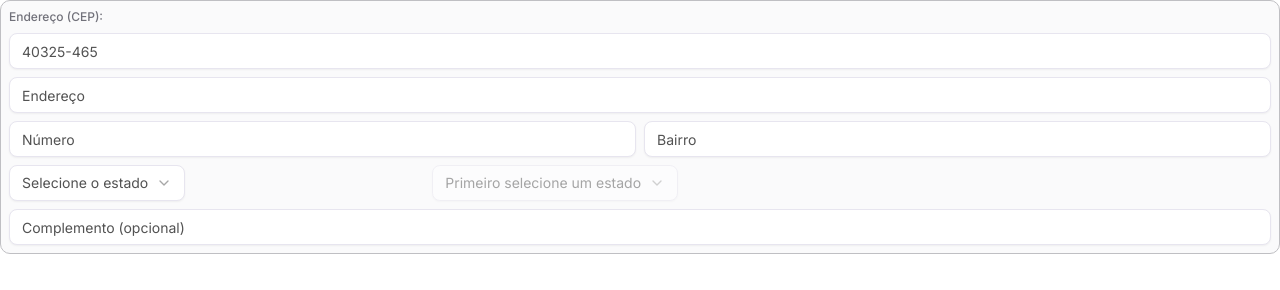
Test case: DeliveryAddressForm CEP › resposta antiga não sobrescreve a consulta mais recente
The image size is (1280, 290).
Type "11111111" into the field with placeholder "40325-465" at point(640, 51), box [9,33,1271,69]
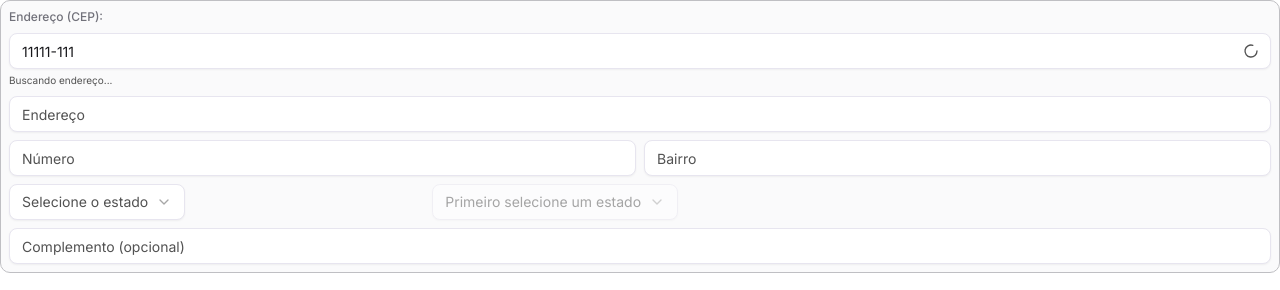
Replace the text in the field with placeholder "40325-465" with "40344530" at point(640, 51), box [9,33,1271,69]
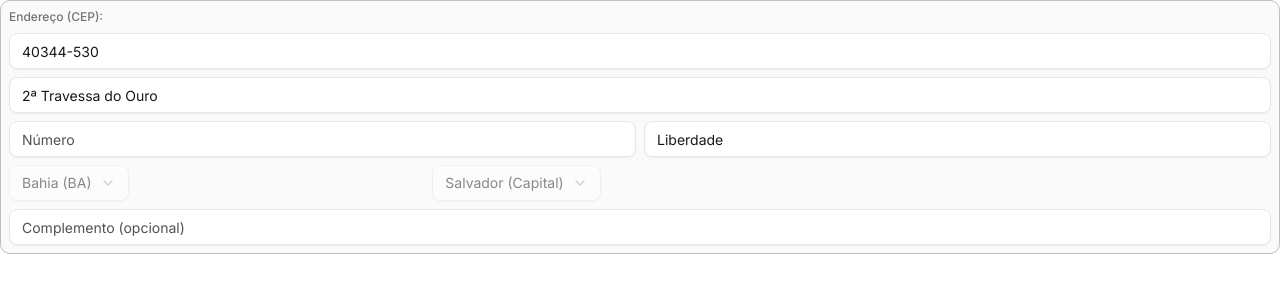
Now the 2nd field showing "2ª Travessa do Ouro" is shown, box [9,77,1271,113]
Now the dropdown labelled "Bahia (BA)" is disabled, box [9,165,128,201]
